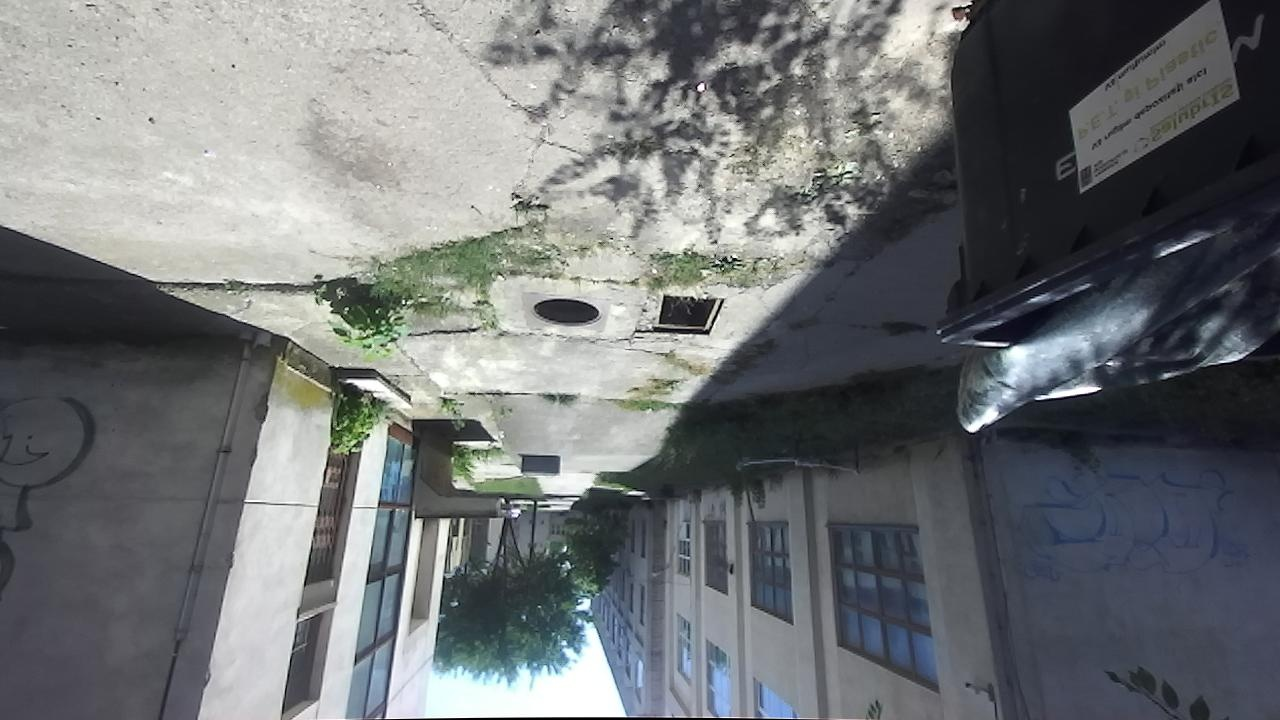drain: (650, 292, 730, 335), (528, 294, 609, 329)
